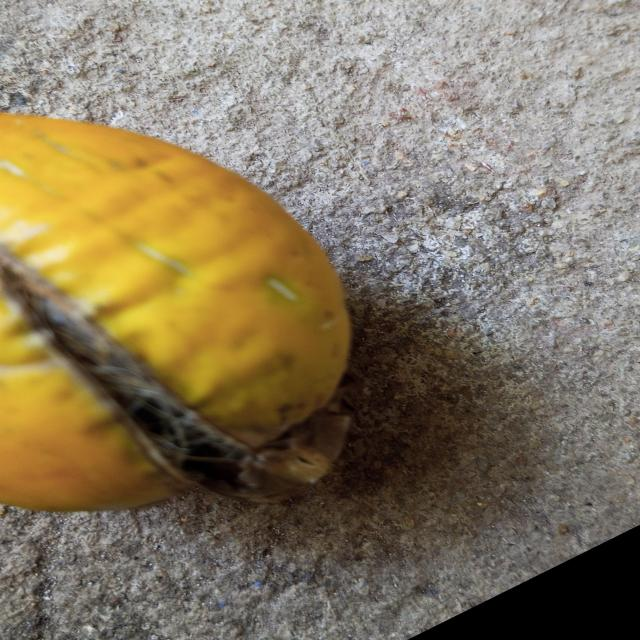damaged: (0, 112, 353, 514)
